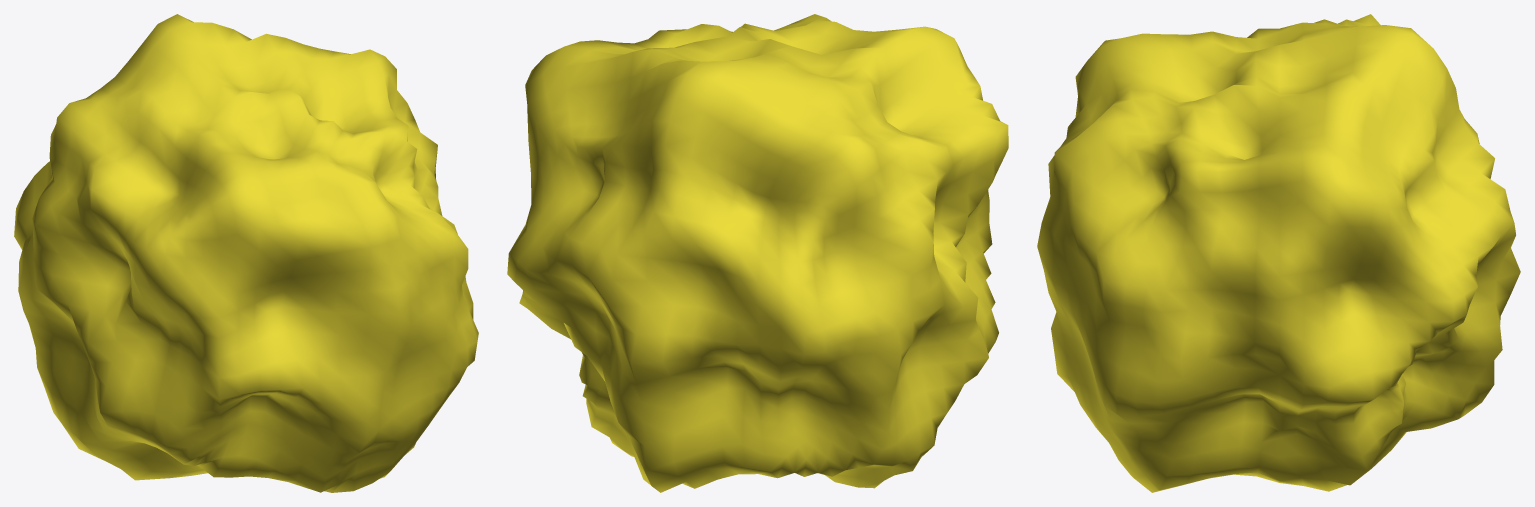
3 renders of one model, left to right at view 1: azimuth 30°, elevation 25°; view 2: azimuth 150°, elevation 25°; view 3: azimuth 270°, elevation 25°, orthographic. The views are drawn at different scales.
Visible parts, largest first — view 1: Cube; view 2: Cube; view 3: Cube.
Part boxes in pixels (bbox=[...]): Cube: bbox=[14, 14, 478, 492]; Cube: bbox=[507, 14, 1008, 492]; Cube: bbox=[1037, 14, 1520, 492].
Bounding box in the file's own units: 116 × 116 × 121.
